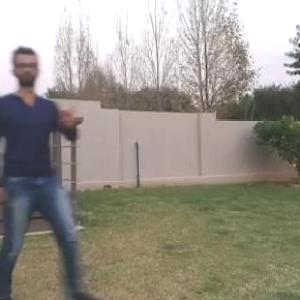takeoff-hand: (56, 95, 81, 129)
